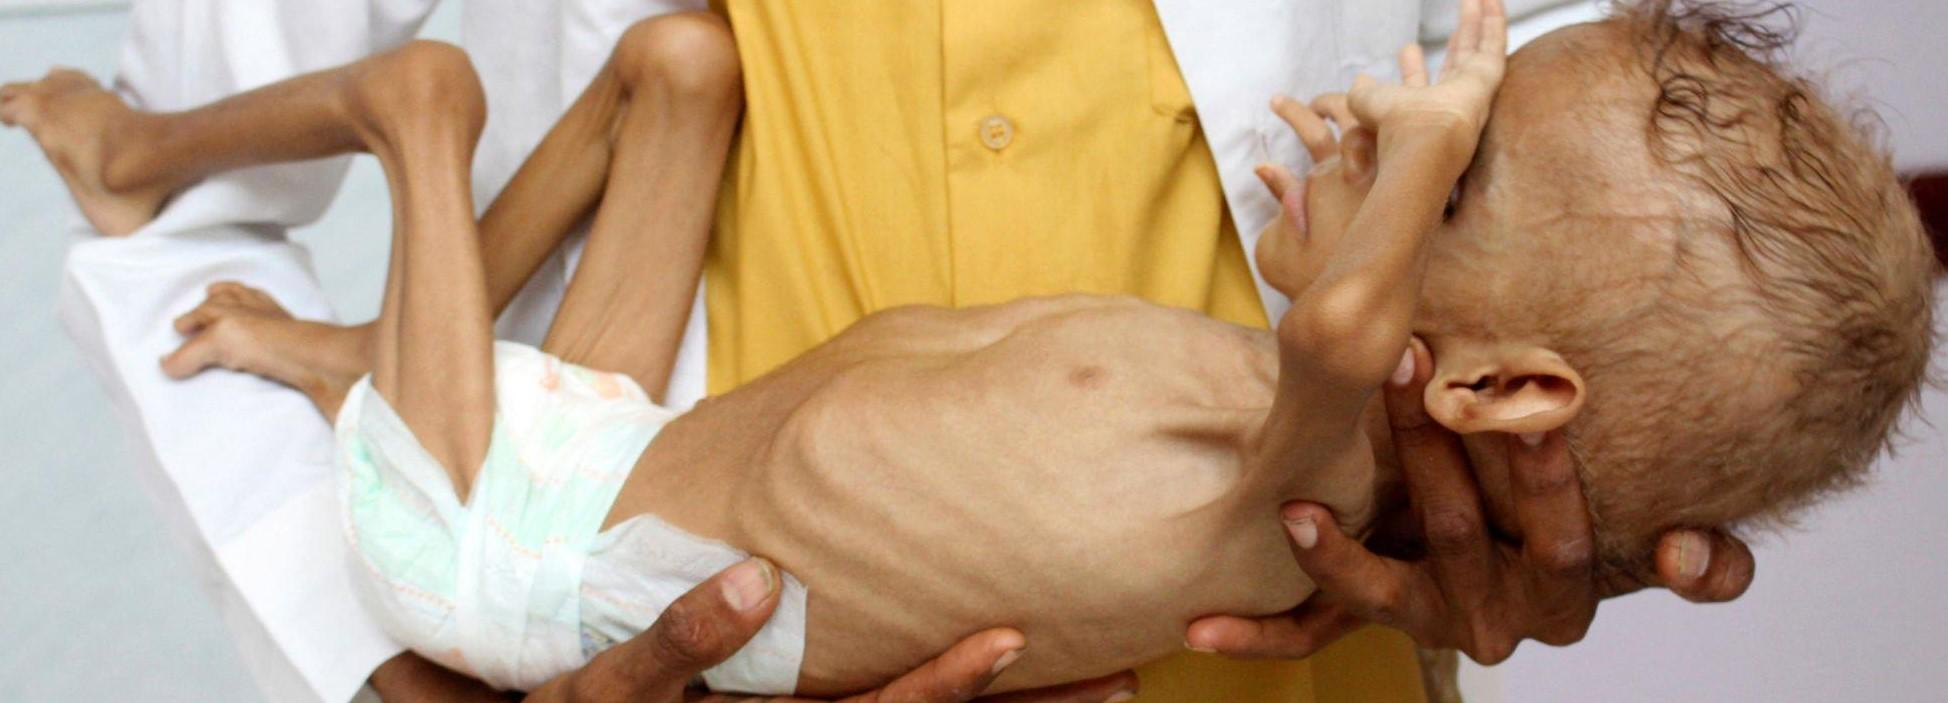Stunting: (1222, 0, 1948, 652)
